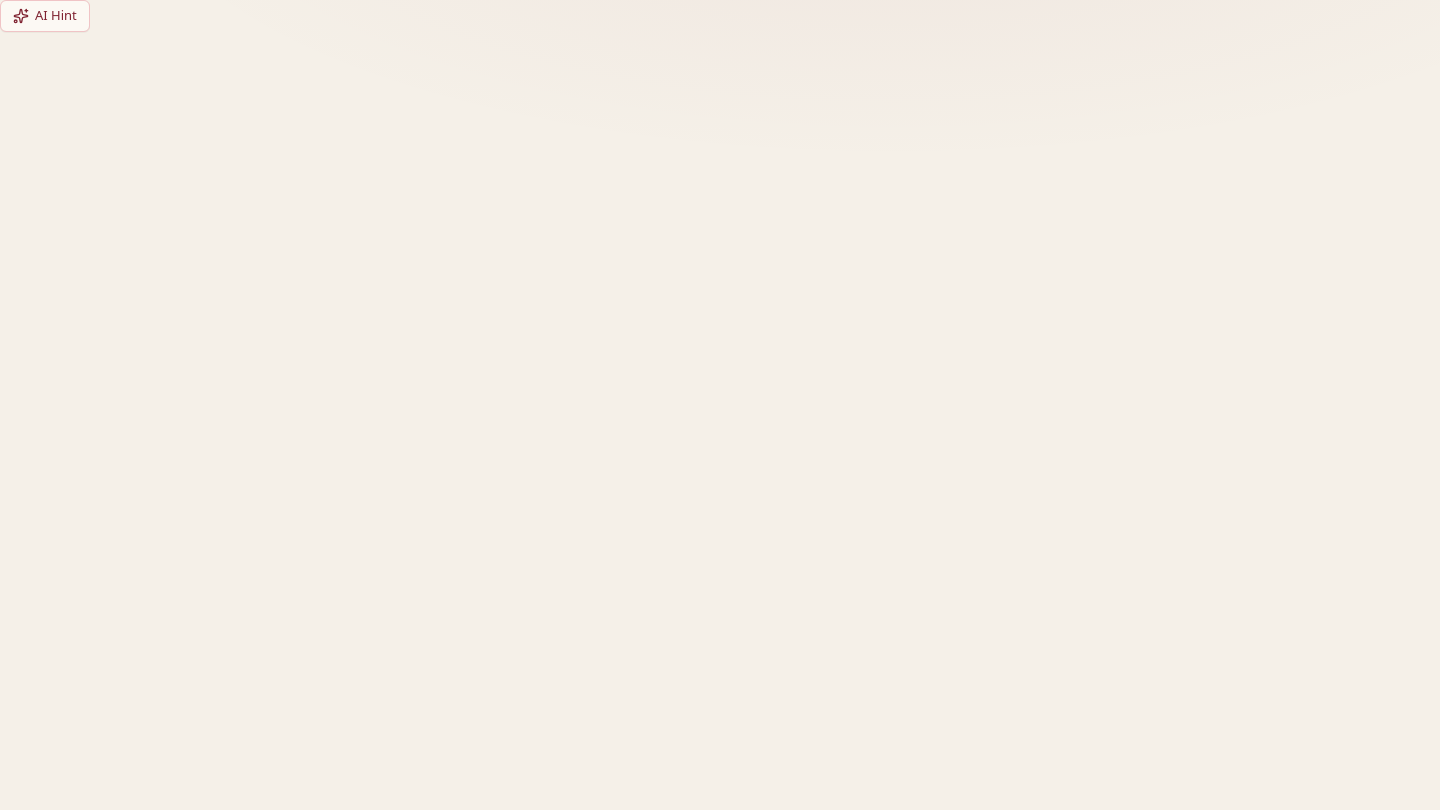
Test: a lab’s AI Hint (Phase 7E) › promises a way to reason, not the solution, and asks for an attempt first
Click the button "AI Hint" at (45, 16), box x1=0 y1=0 x2=90 y2=32
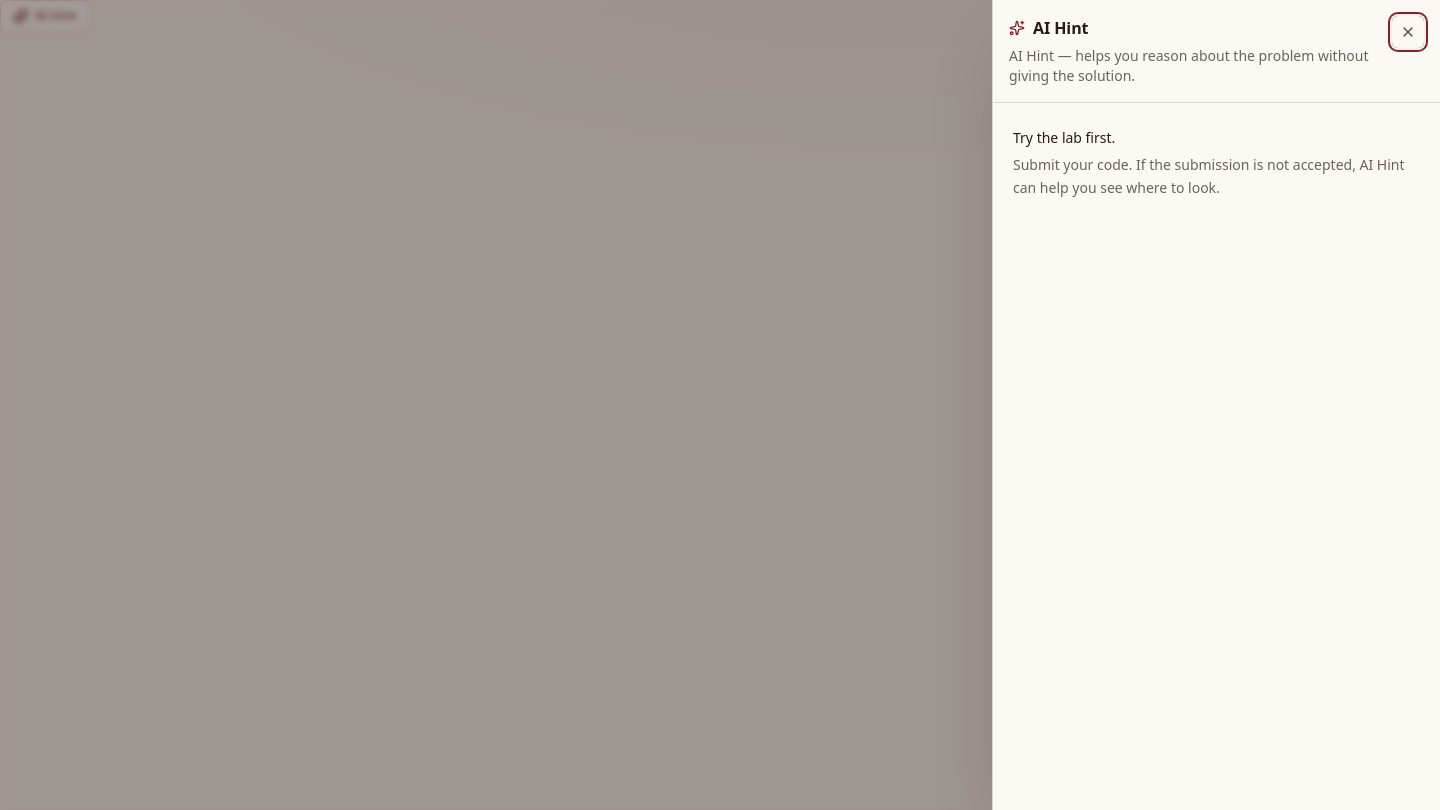
Expected: the text "AI Hint — helps you reason about the problem without giving the solution." is shown, x1=1009 y1=46 x2=1392 y2=86
Expected: the text "Try the lab first." is shown, x1=1013 y1=128 x2=1115 y2=147
